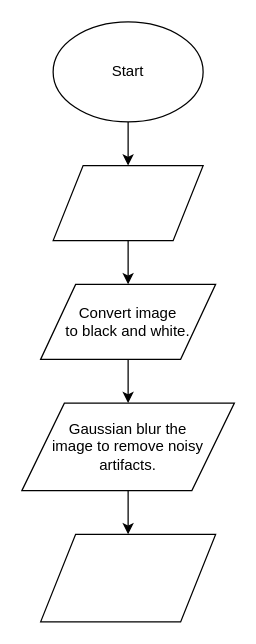
Some shapes in this 256 by 644 pixel diagram are drawn without their labels. Each missing label, with the centre of its shape:
Perform adaptive thresholding using Gaussian blur.: point (127, 577)
Read in image.: point (127, 202)
